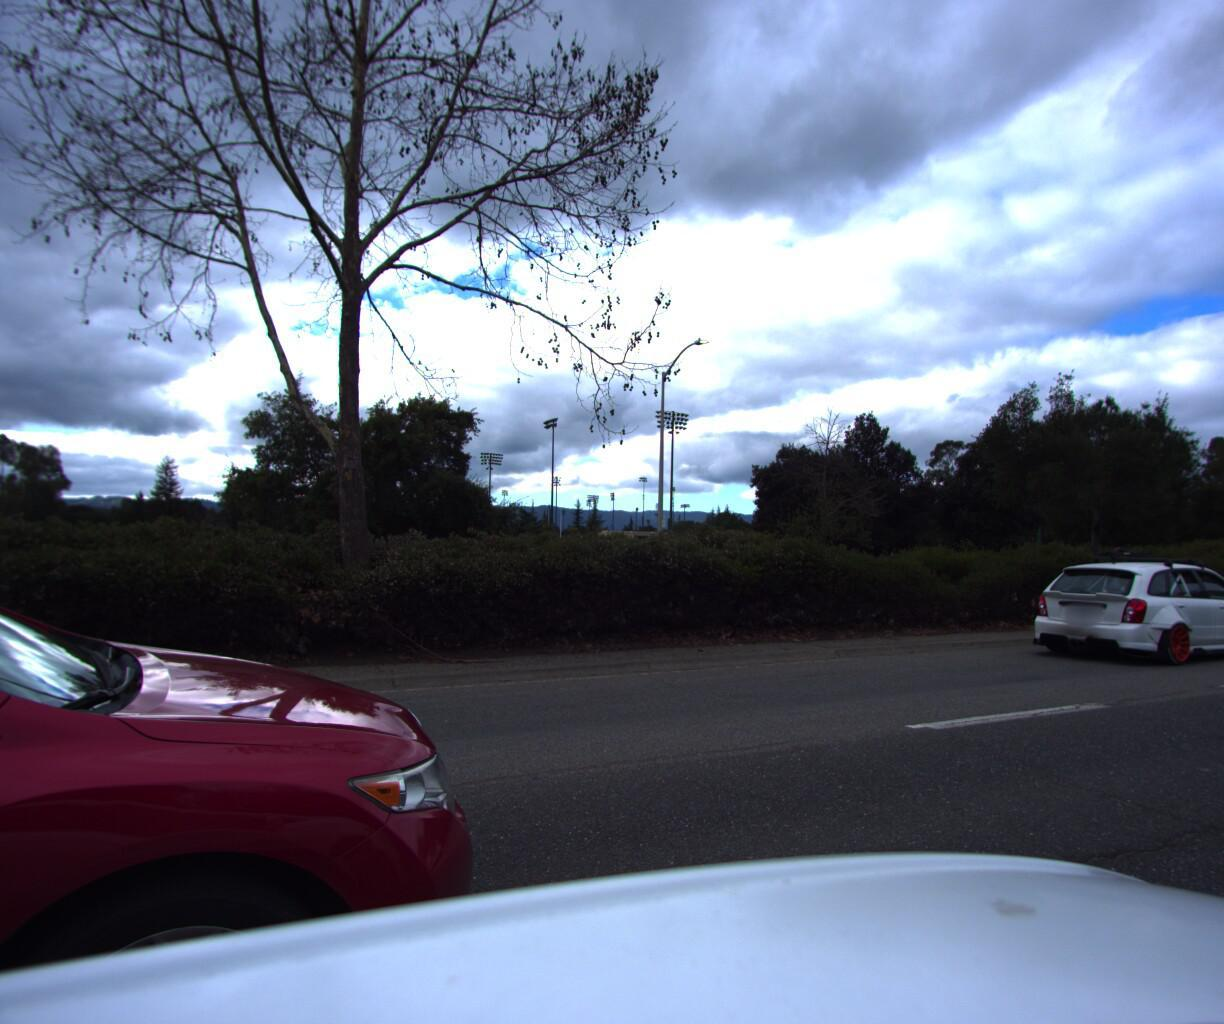car: (1013, 535, 1224, 662)
